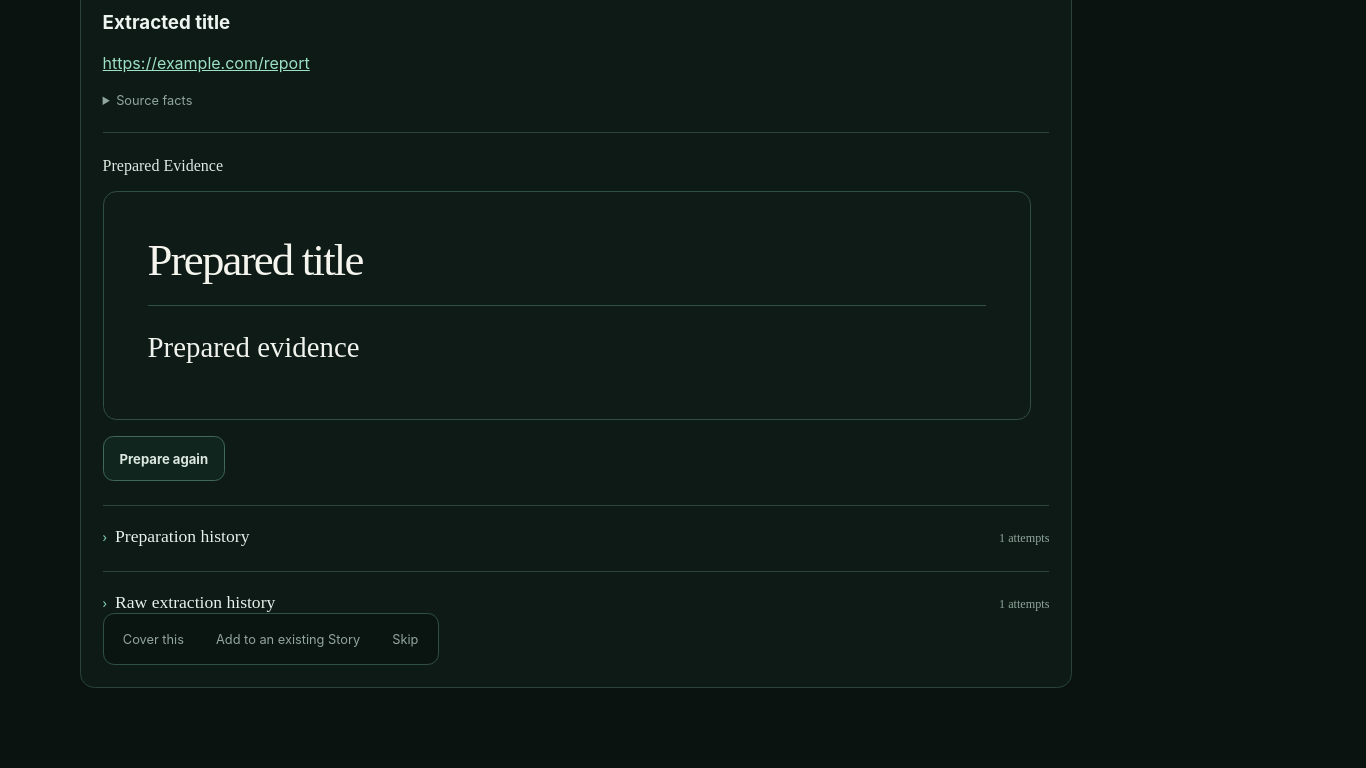
Test: SourceInboxWorkspace › stays silent when the model read the whole raw extraction
(page scrolled)
Click the text "› Preparation history".
click(176, 536)  # box [103, 526, 249, 547]
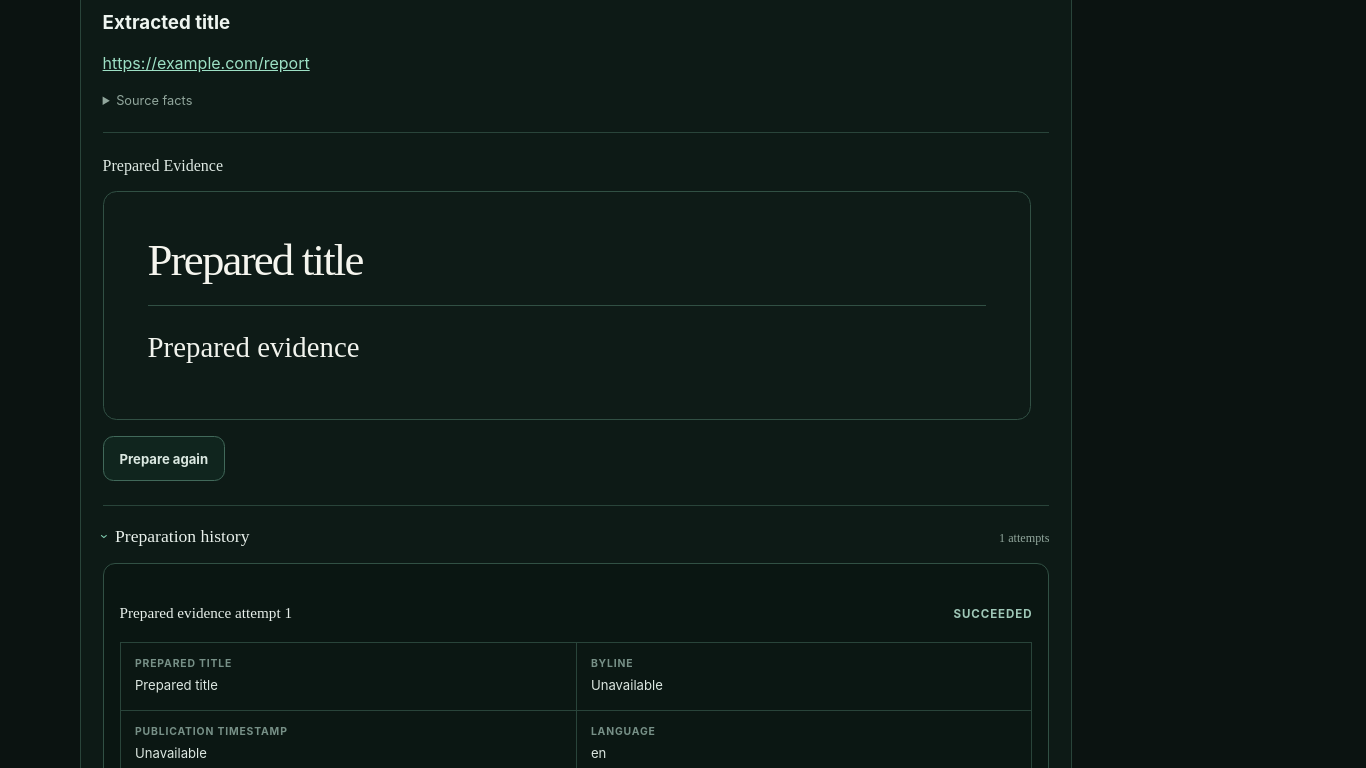
Check: the heading "Prepared evidence attempt 1" is shown, box [120, 604, 292, 622]
